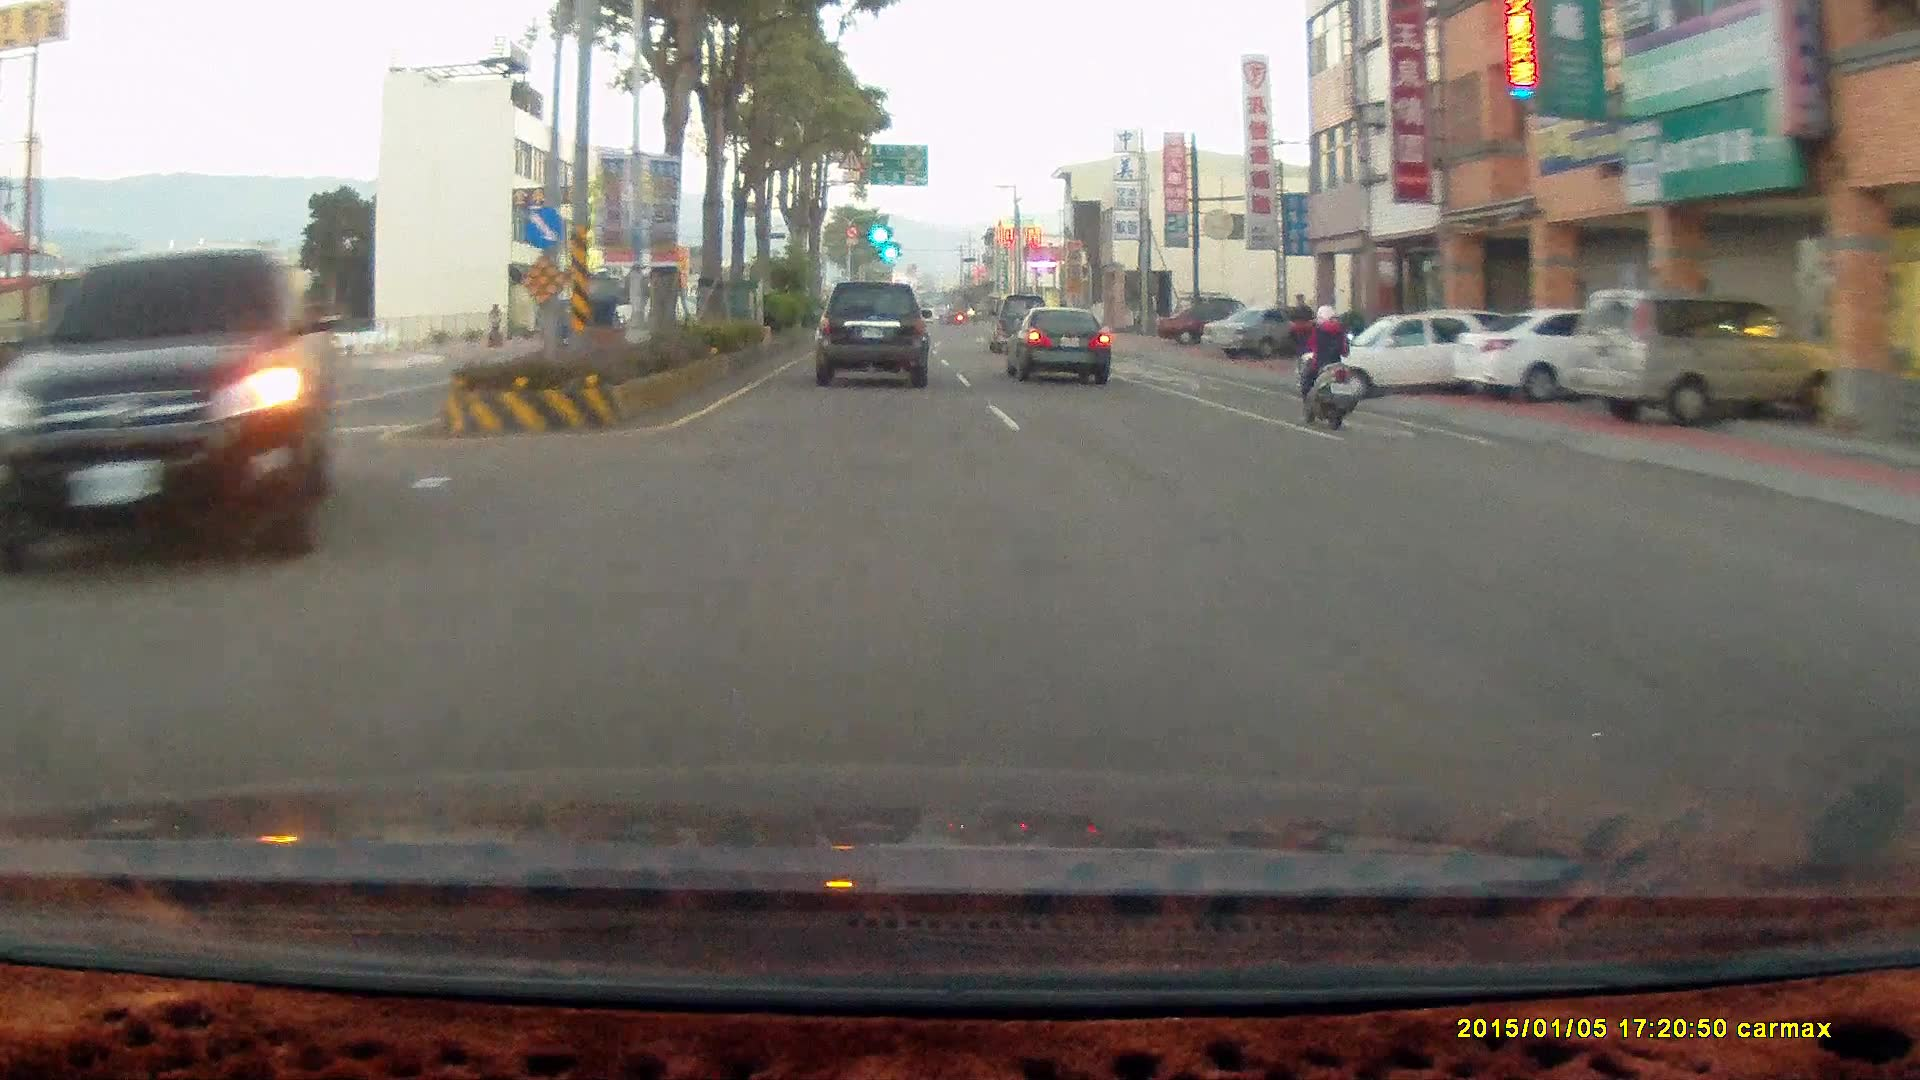pedestrian: (1284, 291, 1316, 371)
rider: (1284, 294, 1371, 436), (1293, 300, 1358, 427)
vehicle: (1, 247, 340, 575), (1, 247, 326, 576), (1565, 287, 1840, 436), (1566, 285, 1845, 425), (1451, 303, 1699, 404), (1296, 310, 1531, 409), (1448, 301, 1660, 400), (1295, 310, 1506, 402), (814, 281, 933, 390), (815, 281, 931, 390), (1007, 308, 1123, 387), (1004, 304, 1108, 384), (1203, 304, 1327, 361), (1203, 304, 1326, 360), (1157, 304, 1268, 345), (985, 292, 1051, 352)
